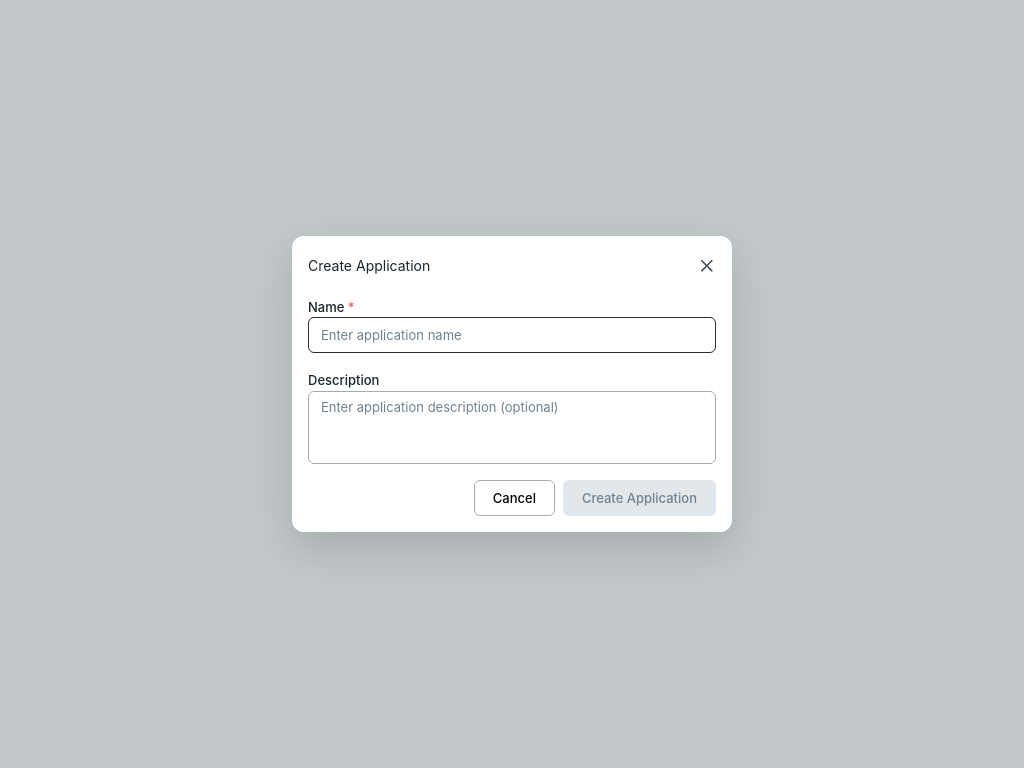
Scenario: CreateComponentDialog › should handle create component error
Type "Test Component" into the field labelled "Name *" at (512, 335), box [308, 317, 716, 353]
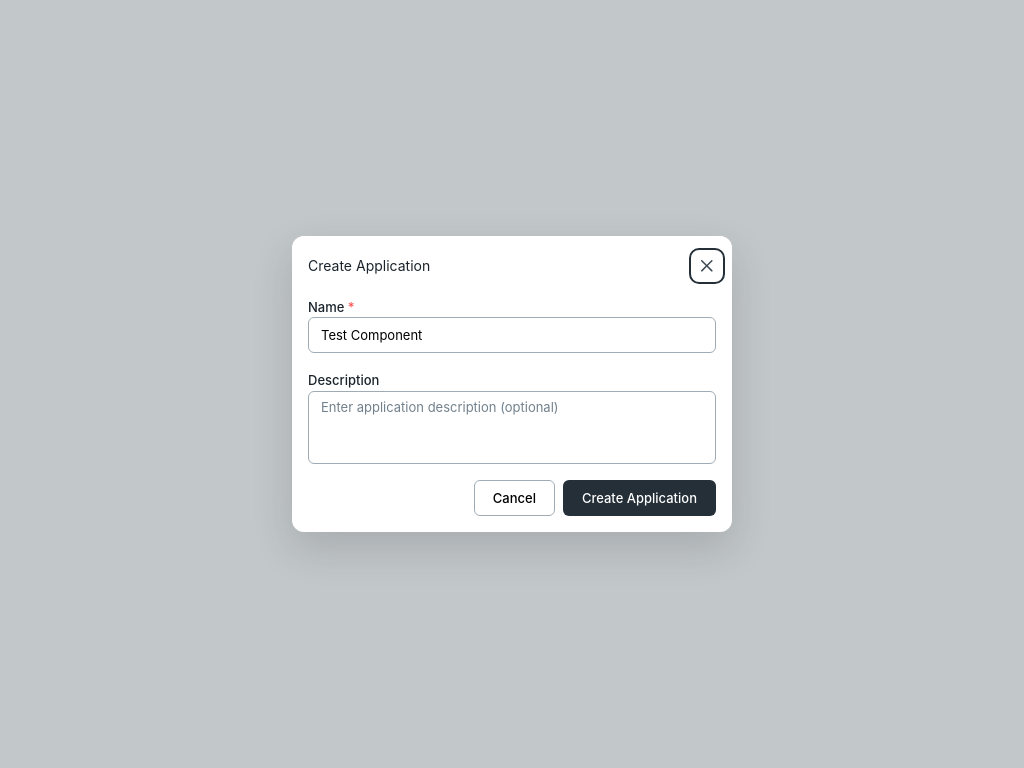
Check: the button "Create Application" is enabled
Click the button "Create Application" at (639, 498), box [563, 480, 716, 516]
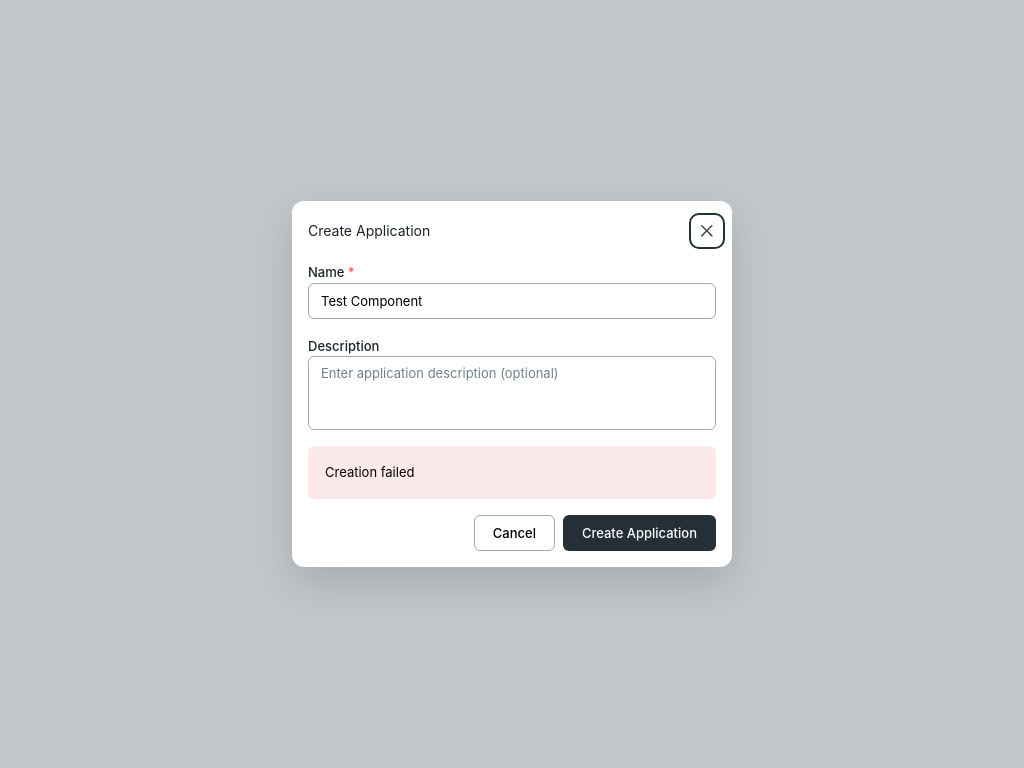
Check: the text "Creation failed" is shown, box [325, 464, 414, 480]
